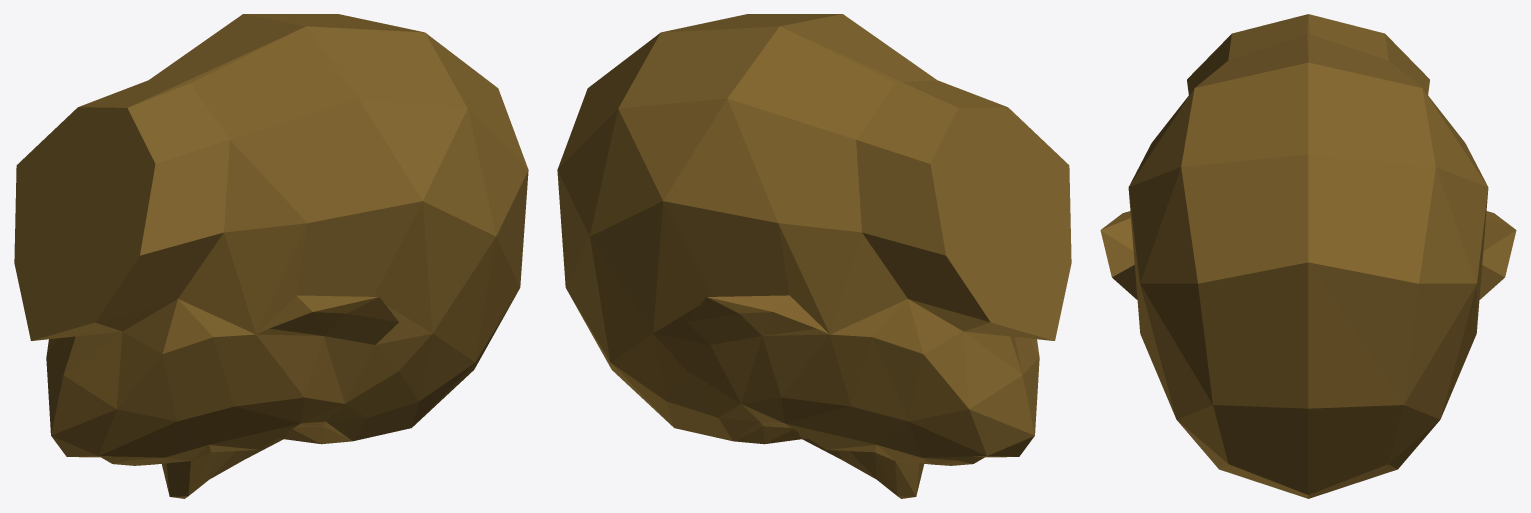
The model's file is facegroupes.obj.
3 views of the same model, side by side, from view 1: azimuth 30°, elevation 25°; view 2: azimuth 150°, elevation 25°; view 3: azimuth 270°, elevation 25° (orthographic).
Parts seen in each view (by area): view 1: Cou, (null), Oreille gauche, Sous-face, Front, Joue gauche, Menton, Nez, Bouche; view 2: (null), Cou, Sous-face, Menton, Nez, Oreille droite; view 3: (null), Cou, Oreille gauche, Front.
Part boxes in pixels (x1,y1,x2,y2): Cou: (14, 26, 358, 340); (null): (46, 14, 528, 368); Oreille gauche: (256, 201, 432, 344); Sous-face: (46, 223, 307, 409); Front: (256, 333, 475, 444); Joue gauche: (117, 334, 304, 452); Menton: (46, 358, 208, 457); Nez: (162, 432, 287, 498); Bouche: (101, 456, 189, 465); (null): (557, 14, 990, 495); Cou: (780, 14, 1071, 340); Sous-face: (963, 322, 1053, 408); Menton: (969, 358, 1039, 457); Nez: (895, 461, 923, 498); Oreille droite: (773, 295, 829, 334); (null): (1128, 34, 1516, 494); Cou: (1187, 14, 1388, 94); Oreille gauche: (1100, 211, 1137, 299); Front: (1177, 420, 1397, 498).
Bounding box in the file's own units: 3.12 × 2.82 × 2.44.
